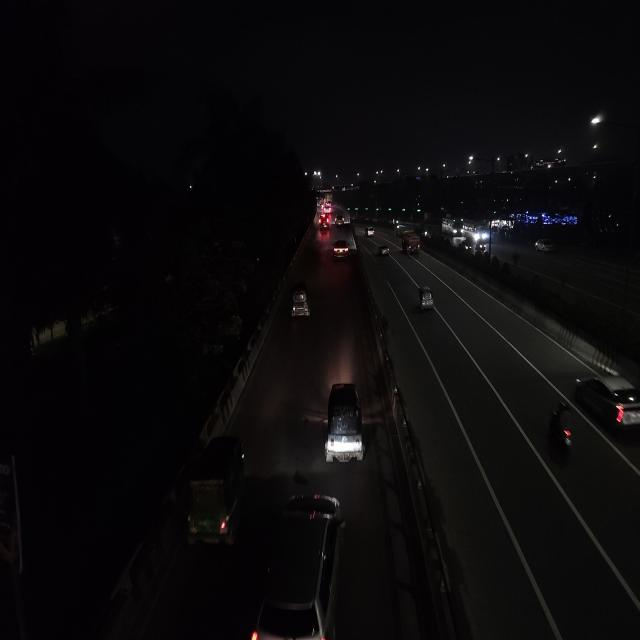bus: (464, 219, 491, 243), (442, 215, 463, 236)
car: (250, 490, 347, 640), (574, 364, 640, 434), (533, 235, 555, 257), (332, 237, 350, 261), (318, 213, 332, 232), (377, 245, 392, 258), (334, 214, 345, 228), (364, 226, 375, 238)
cng: (186, 435, 246, 551), (321, 379, 367, 467), (288, 281, 313, 320), (414, 281, 436, 317), (475, 238, 487, 253)
motorcycle: (544, 401, 580, 458)
truck: (400, 230, 422, 256)
